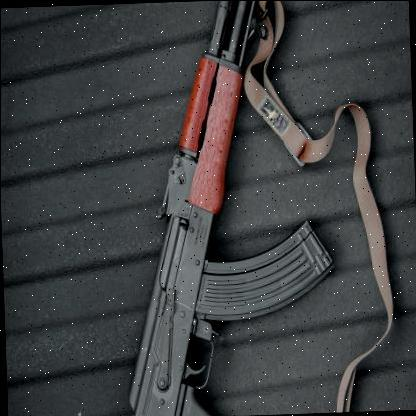rifle: (95, 0, 335, 416)
